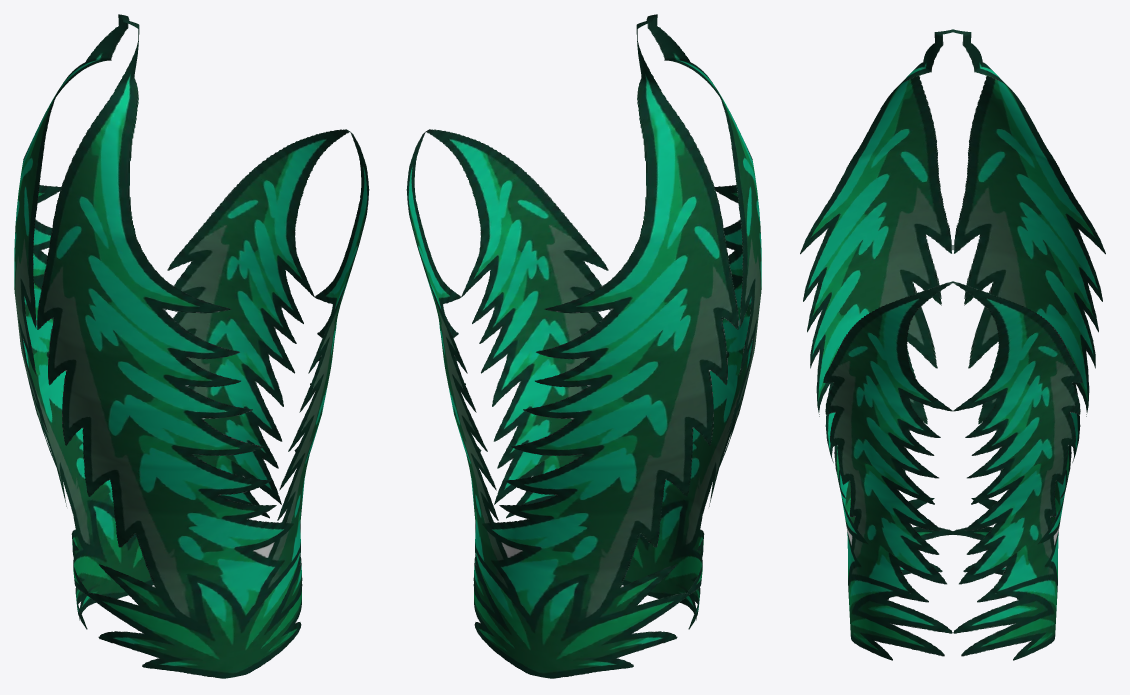
Rendered from teal_fern.glb.
The picture shows the model from 3 angles, left to right: view 1: azimuth 30°, elevation 25°; view 2: azimuth 150°, elevation 25°; view 3: azimuth 270°, elevation 25°; orthographic projection. The views are drawn at different scales.
Visible parts, largest first — view 1: teal_fern; view 2: teal_fern; view 3: teal_fern.
Part boxes in pixels (left/top/right/bottom): teal_fern: left=14, top=14, right=369, bottom=678; teal_fern: left=406, top=14, right=761, bottom=678; teal_fern: left=800, top=29, right=1105, bottom=660.
Size of the model in its own units: 1 by 1.92 by 0.9756.
1 material, 1 textured.
